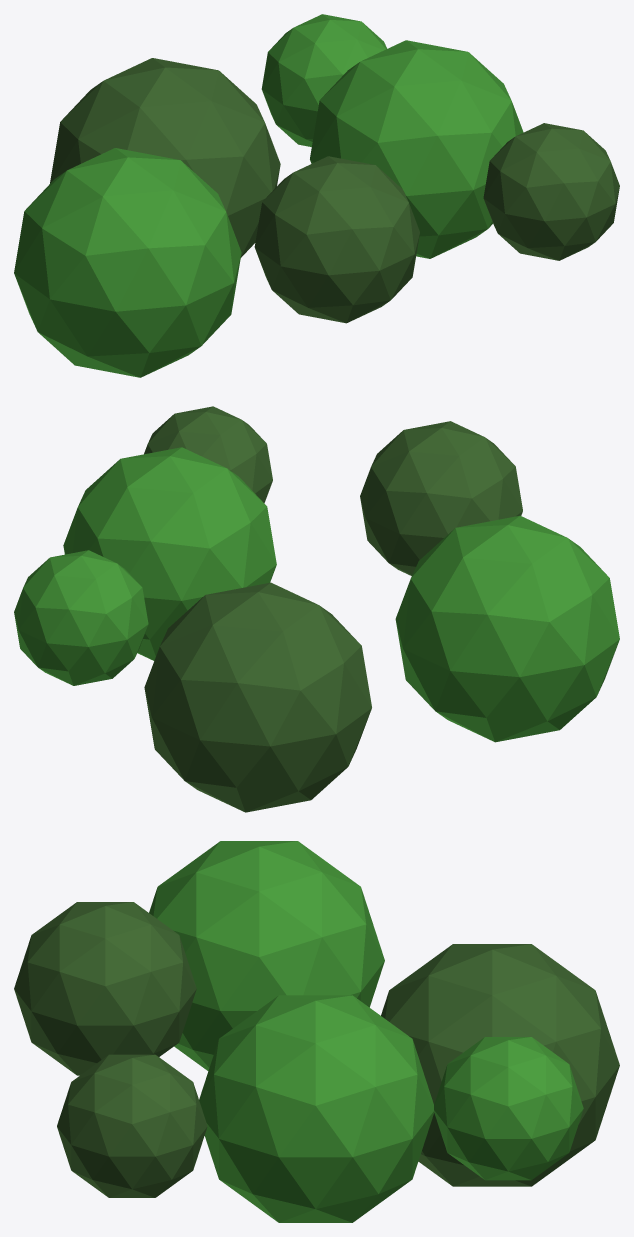
Rendered from tree_1.glb.
3 views of the same model, one above another, from view 1: azimuth 30°, elevation 25°; view 2: azimuth 150°, elevation 25°; view 3: azimuth 270°, elevation 25° (orthographic). The views are drawn at different scales.
Visible parts, largest first — view 1: Icosphere.005, Icosphere, Icosphere.004, Icosphere.003, Icosphere.002, Icosphere.001; view 2: Icosphere.004, Icosphere.005, Icosphere, Icosphere.003, Icosphere.001, Icosphere.002; view 3: Icosphere, Icosphere.005, Icosphere.004, Icosphere.003, Icosphere.002, Icosphere.001.
Boxes of the visible parts, x1,y1,x2,y2 form: Icosphere.005: (14,148,241,377); Icosphere: (310,40,523,258); Icosphere.004: (50,58,280,257); Icosphere.003: (254,156,419,323); Icosphere.002: (483,123,619,260); Icosphere.001: (261,14,387,146); Icosphere.004: (144,582,371,812); Icosphere.005: (395,515,619,742); Icosphere: (63,447,276,660); Icosphere.003: (360,421,522,575); Icosphere.001: (14,550,148,685); Icosphere.002: (144,406,272,503); Icosphere: (199,995,434,1222); Icosphere.005: (149,841,384,1070); Icosphere.004: (381,944,619,1186); Icosphere.003: (14,902,196,1075); Icosphere.002: (57,1054,207,1197); Icosphere.001: (434,1037,583,1180).
Bounding box in the file's own units: 8.58 × 3.97 × 8.04.
